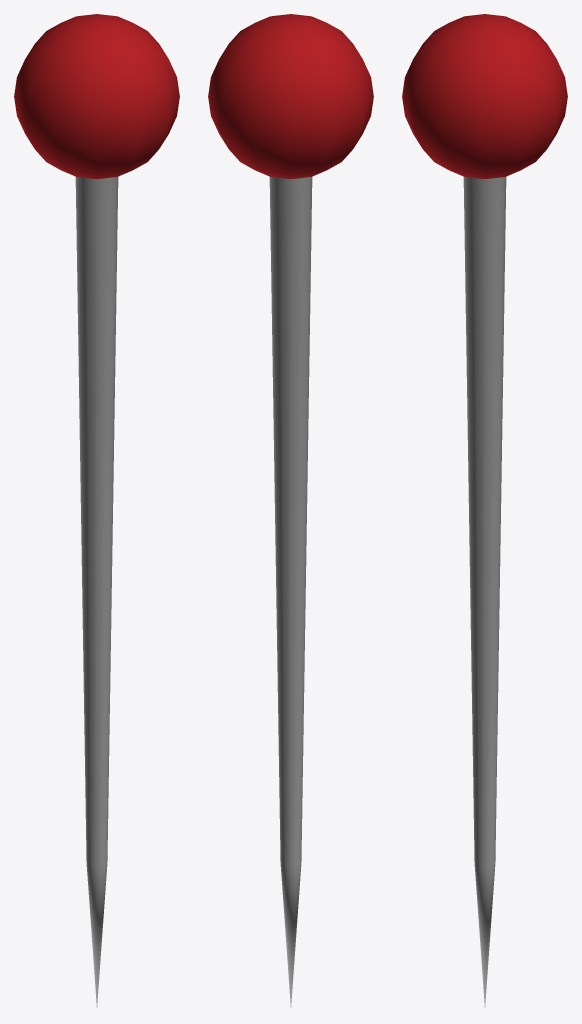
File: Pin.fbx
3 renders of one model, left to right at view 1: azimuth 30°, elevation 25°; view 2: azimuth 150°, elevation 25°; view 3: azimuth 270°, elevation 25°, orthographic.
Parts seen in each view (by area): view 1: Pin; view 2: Pin; view 3: Pin.
Boxes of the visible parts, x1,y1,x2,y2 form: Pin: (14, 14, 179, 1007); Pin: (208, 14, 373, 1007); Pin: (402, 14, 567, 1007).
Bounding box in the file's own units: 33.4 × 220 × 33.4.
